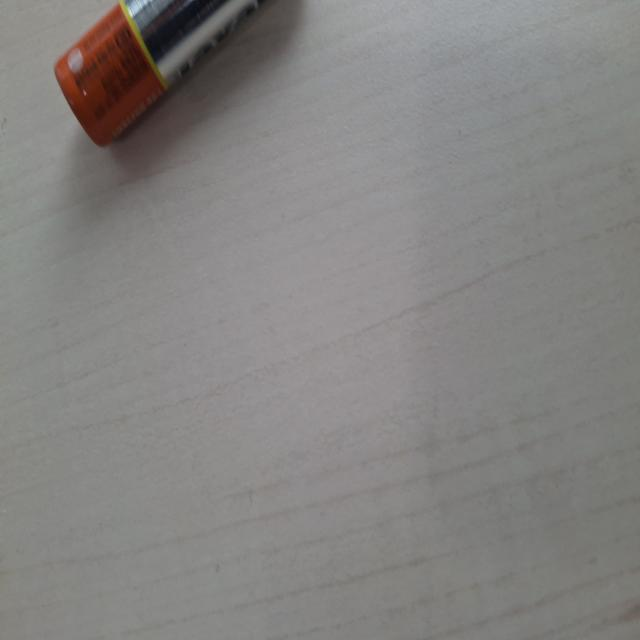AA: (0, 501, 109, 640)
